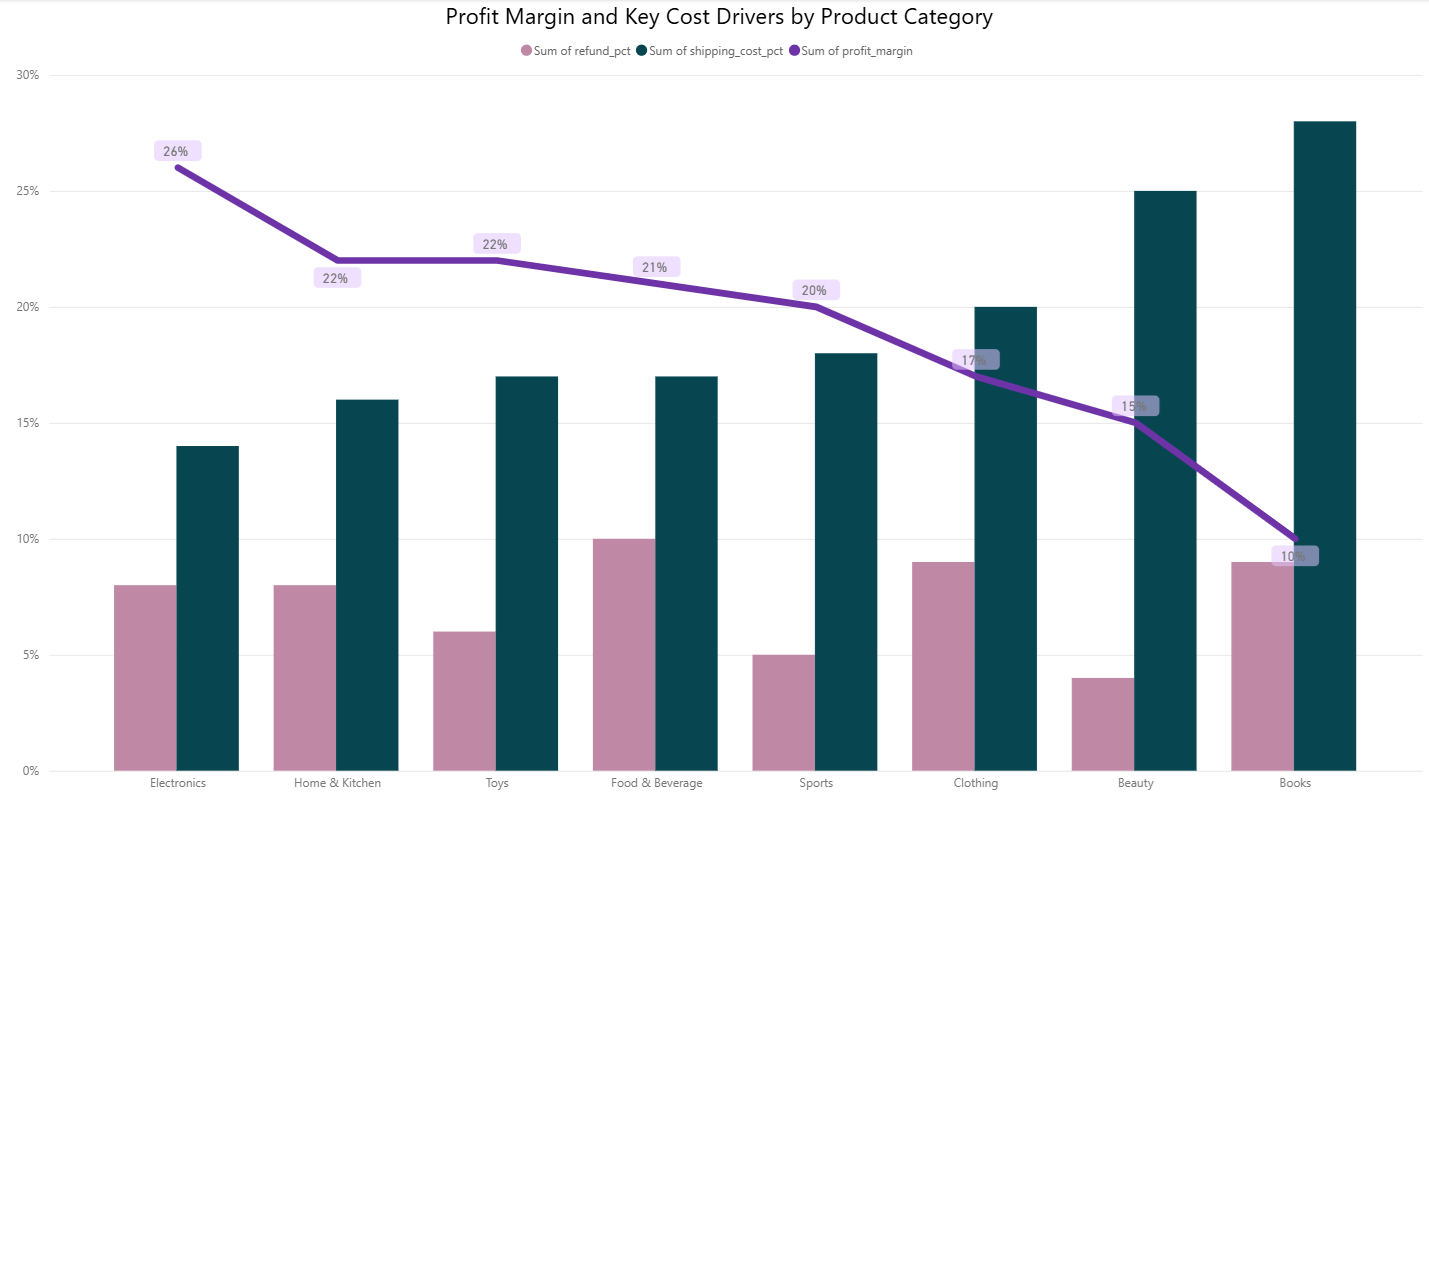

Layout of this report page (visuals, bound fields, positions):
{"tool":"powerbi","page":{"name":"Product Profitability","canvas":[1280,720],"ordinal":0},"visuals":[{"type":"lineClusteredColumnComboChart","title":"Profit Margin and Key Cost Drivers by Product Category","fields":{"Category":["e_commerce vw_category_profitability.primary_category"],"Y":["Sum(e_commerce vw_category_profitability.refund_pct)","Sum(e_commerce vw_category_profitability.shipping_cost_pct)"],"Y2":["Sum(e_commerce vw_category_profitability.profit_margin)"]},"box":[9.7,0,1270.3,719.8],"z":0}]}

Visuals, with their boxes on the page's 1280x720 design canvas (x1, y1, x2, y2). These are canvas units, not pixel positions in the 1429x1262 screenshot, which may show the page scaled, cropped or inside an application window:
"Profit Margin and Key Cost Drivers by Product Category" lineClusteredColumnComboChart: <region>10, 0, 1280, 720</region>
